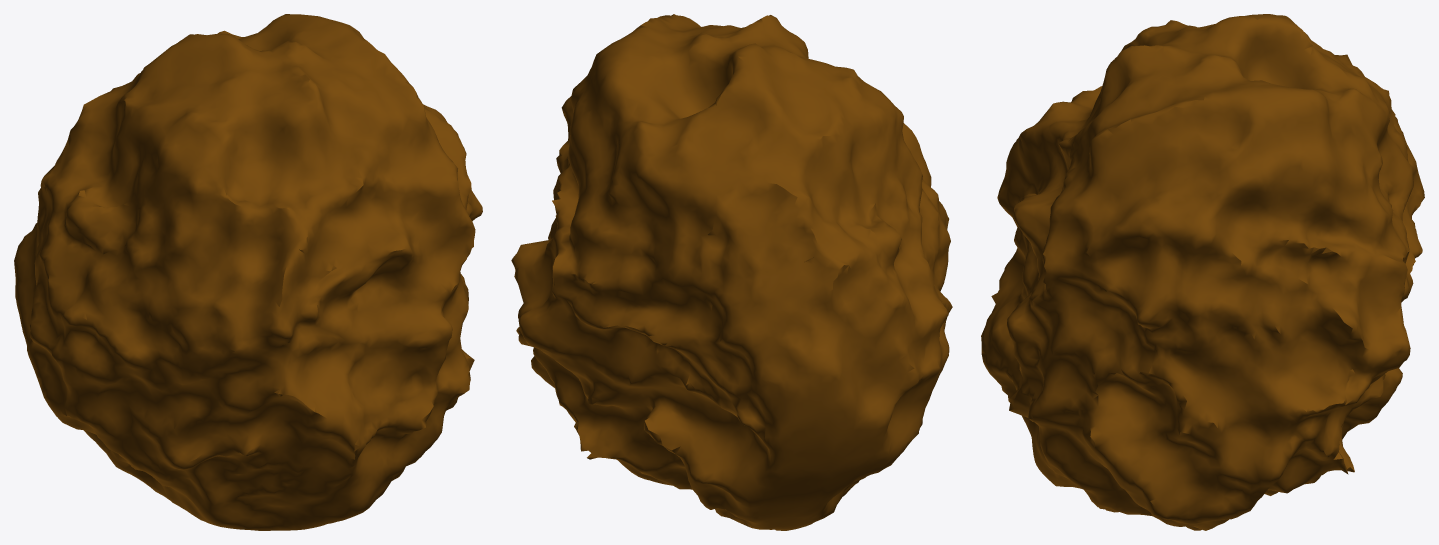
The model's file is meteorite_brown.fbx.
3 views of the same model, side by side, from view 1: azimuth 30°, elevation 25°; view 2: azimuth 150°, elevation 25°; view 3: azimuth 270°, elevation 25° (orthographic). The views are drawn at different scales.
Visible parts, largest first — view 1: obj2; view 2: obj2; view 3: obj2.
Boxes of the visible parts, x1,y1,x2,y2 form: obj2: (14,14,482,530); obj2: (511,14,952,530); obj2: (981,14,1424,530).
Size of the model in its own units: 173 by 198 by 162.
